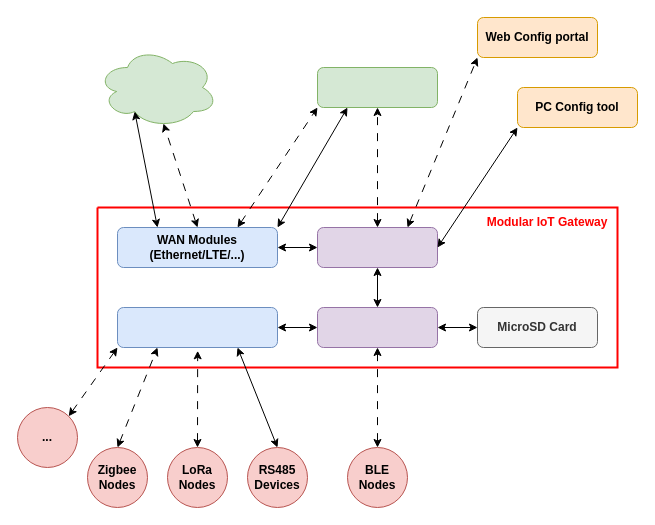
This 655x525 diagram has some shape labels left out. Each missing label, with the box of its shape:
Cloud Service: (96, 46, 218, 128)
LAN Modules (LoRa/Zigbee/RS485/...): (116, 306, 278, 348)
Master WAN MCU ESP32-S3: (316, 226, 438, 268)
Slave LAN MCU ESP32-S3: (316, 306, 438, 348)
User Interface Devices: (316, 66, 438, 108)
